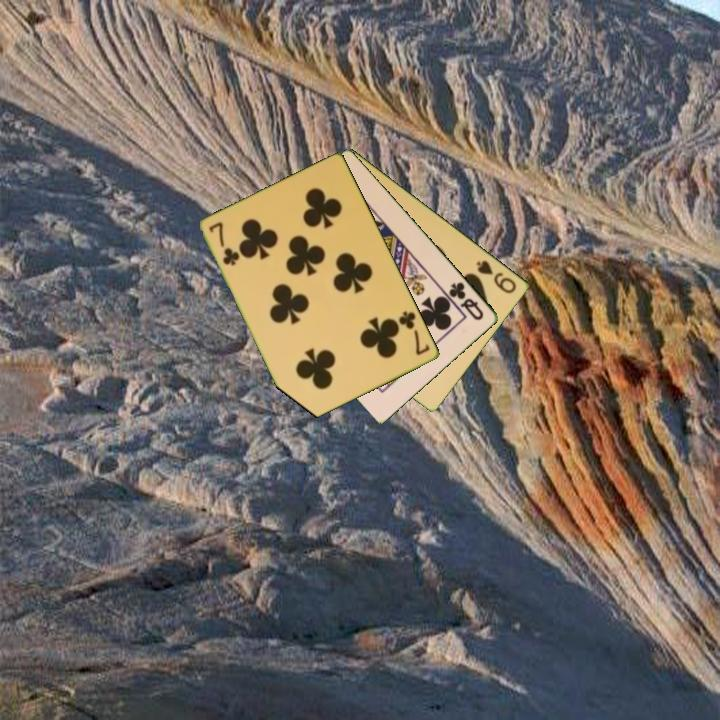7c: (395, 307, 433, 358), (206, 218, 243, 268)
9s: (473, 256, 520, 297)
Qc: (445, 278, 487, 324)
